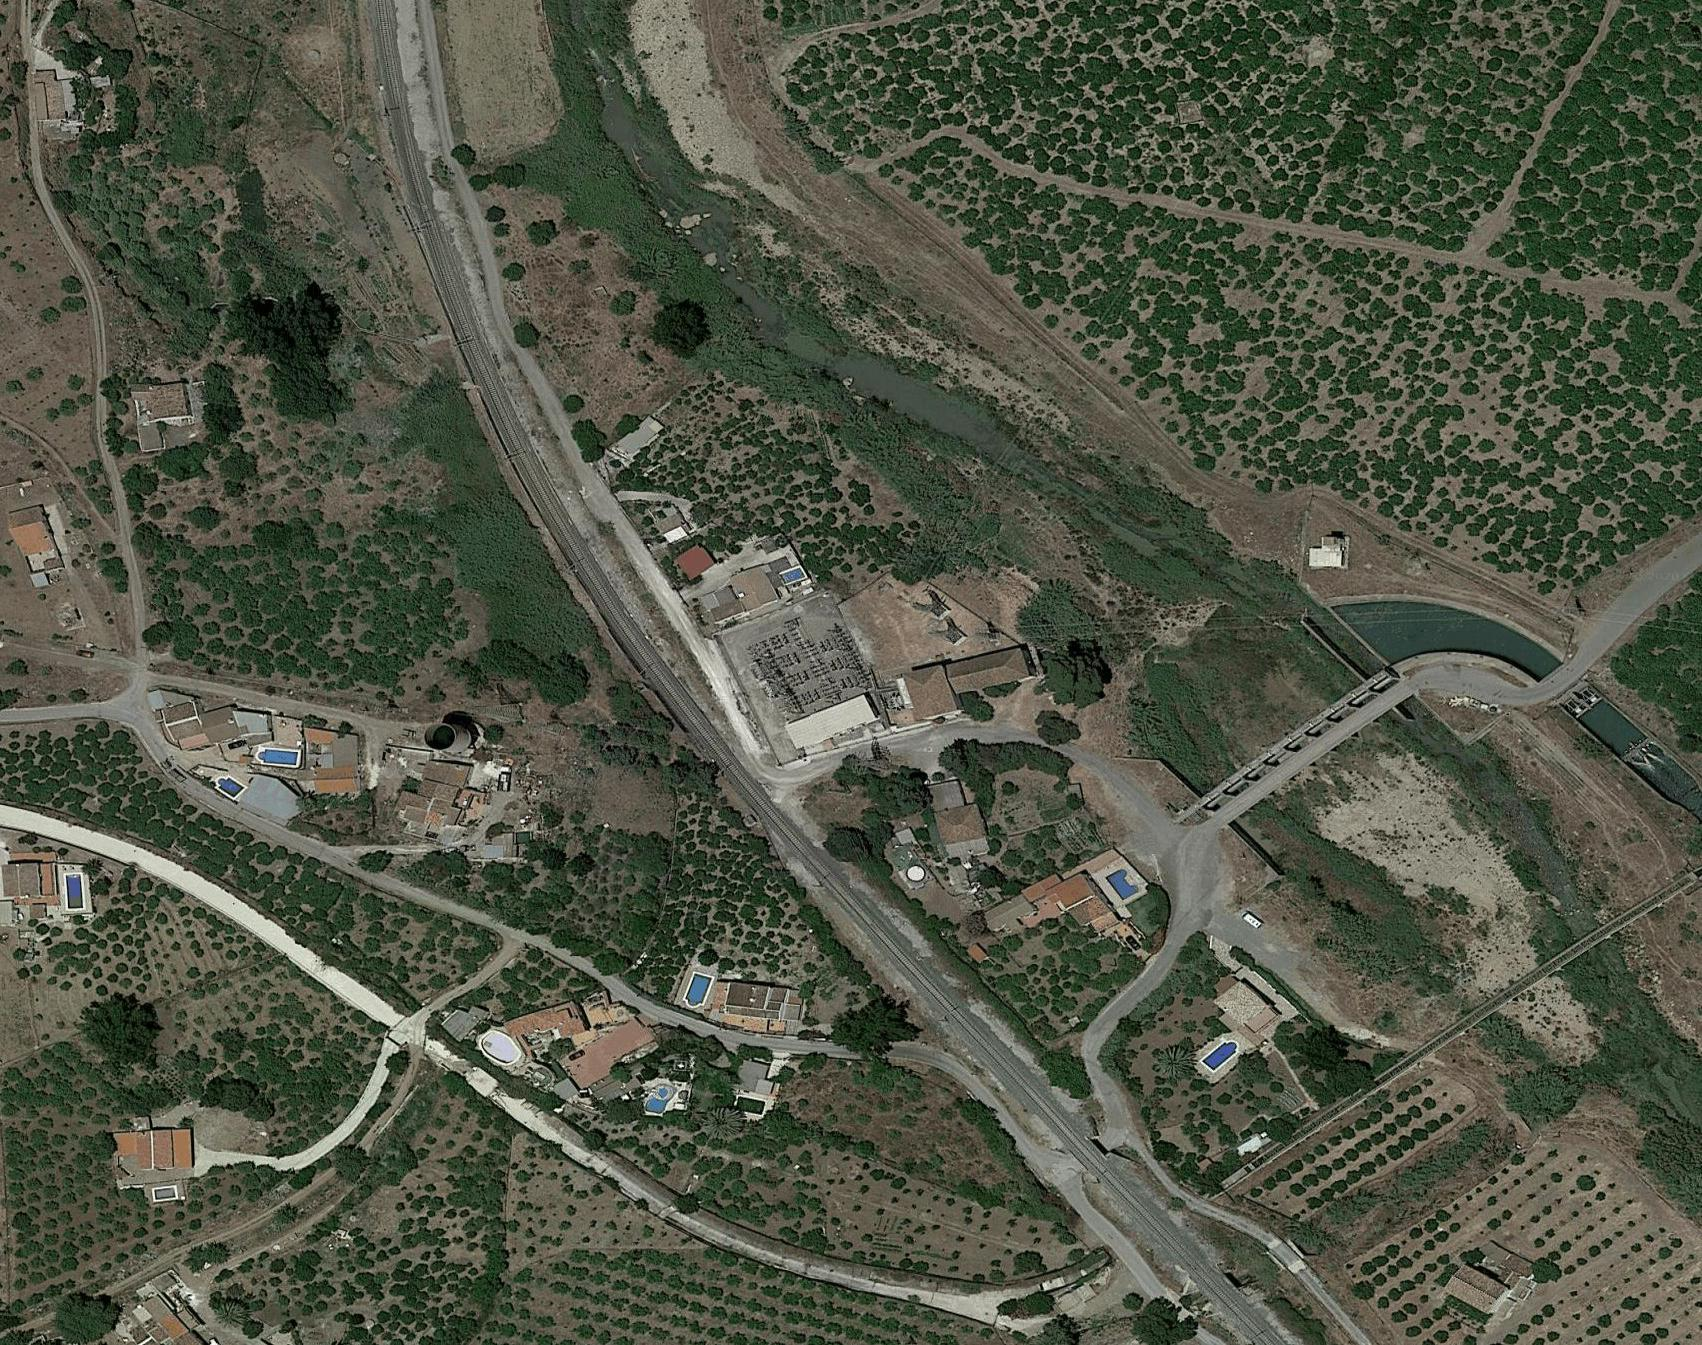substation: (740, 613, 908, 732)
